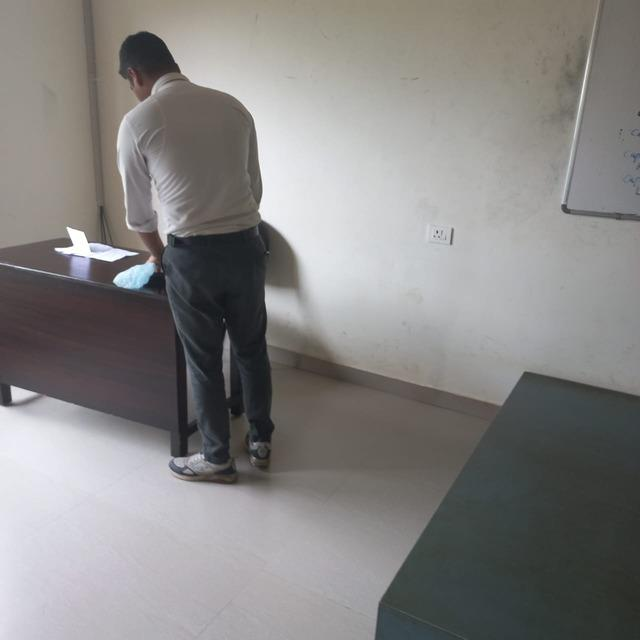no_hairnet: (115, 30, 164, 77)
